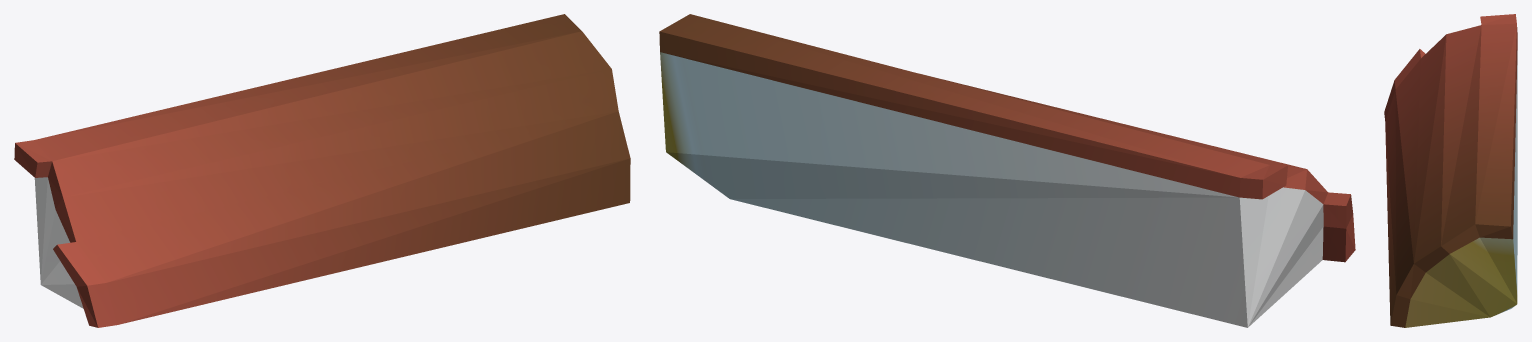
File: firewoodsingle.glb
3 renders of one model, left to right at view 1: azimuth 30°, elevation 25°; view 2: azimuth 150°, elevation 25°; view 3: azimuth 270°, elevation 25°, orthographic. The views are drawn at different scales.
Parts seen in each view (by area): view 1: FirewoodSingle; view 2: FirewoodSingle; view 3: FirewoodSingle.
Boxes of the visible parts, left/top/right/bottom form: FirewoodSingle: left=14, top=14, right=630, bottom=327; FirewoodSingle: left=659, top=14, right=1355, bottom=327; FirewoodSingle: left=1384, top=14, right=1517, bottom=327.
Bounding box in the file's own units: 0.1969 × 0.0472 × 0.0507.
1 material, 1 textured.
